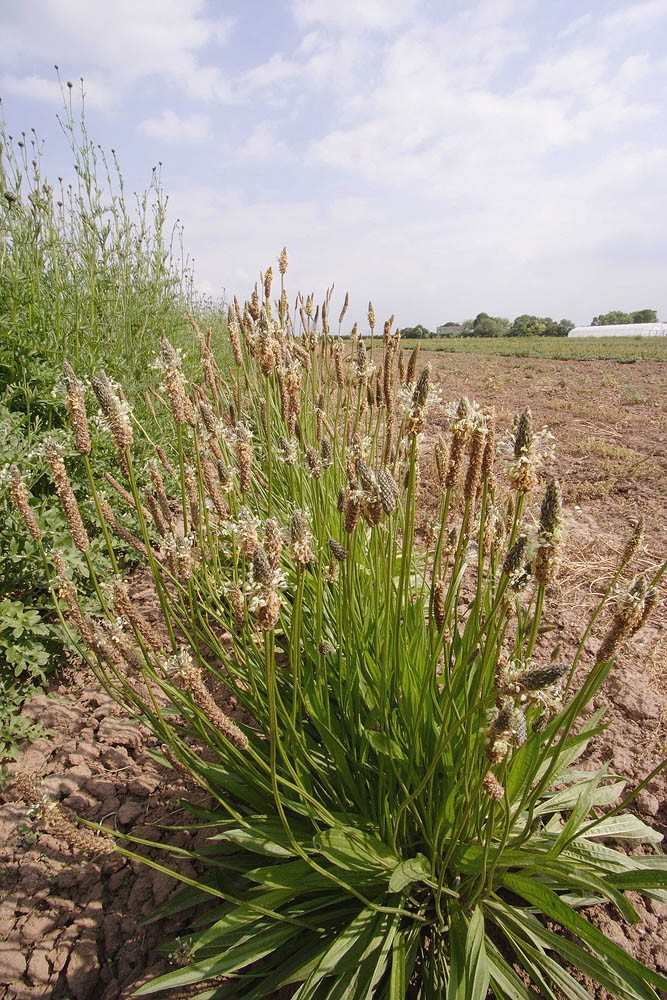buckhorn plantain: (30, 240, 650, 1000)
